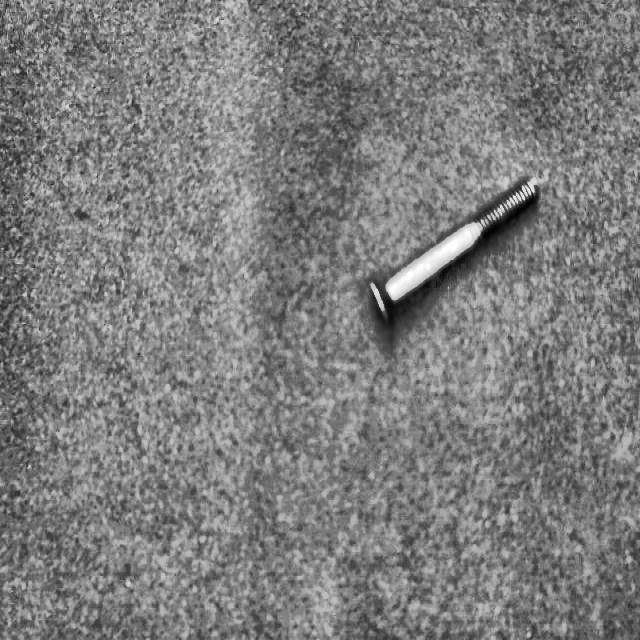Flat head socket screw: (366, 172, 541, 328)
